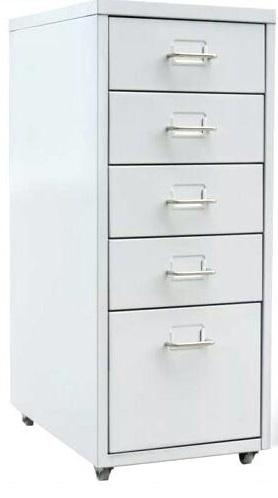cabinet_door: (106, 306, 261, 445), (106, 19, 265, 93), (110, 94, 264, 165), (112, 169, 263, 239), (112, 235, 263, 304)
handle: (161, 321, 215, 358), (163, 182, 218, 217), (164, 254, 217, 290), (163, 113, 218, 144), (165, 40, 217, 72)
